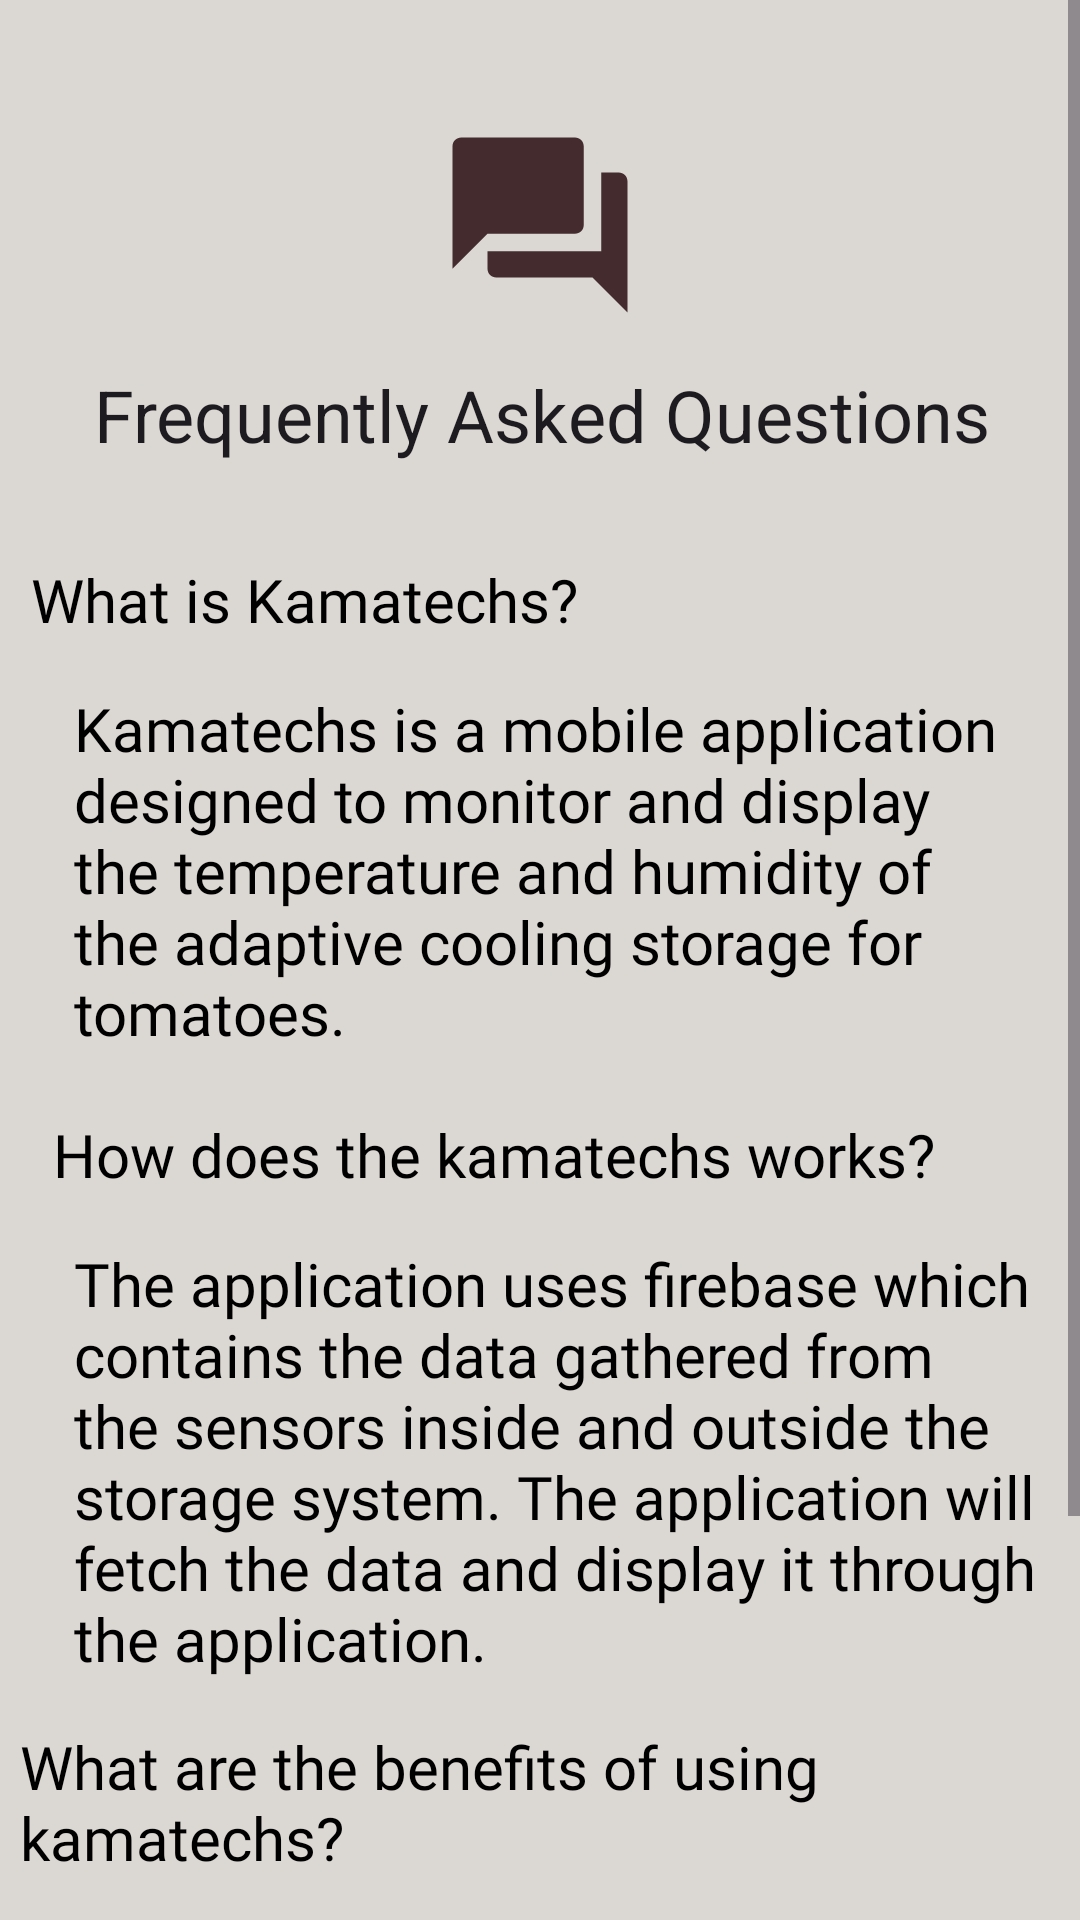

Icon bounding boxes for this 1080w x 1920h phone screenshot, format (x1, y1, x2, y2):
question answer: (452, 137, 628, 312)
